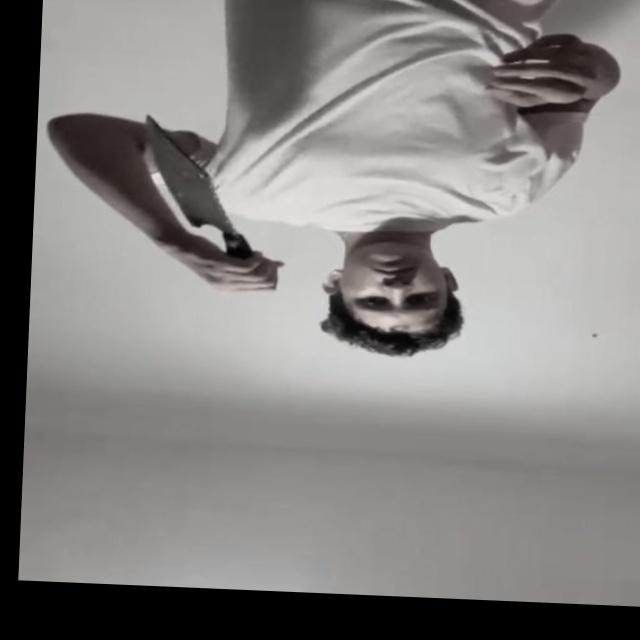Sharp-Object: (140, 124, 239, 230)
